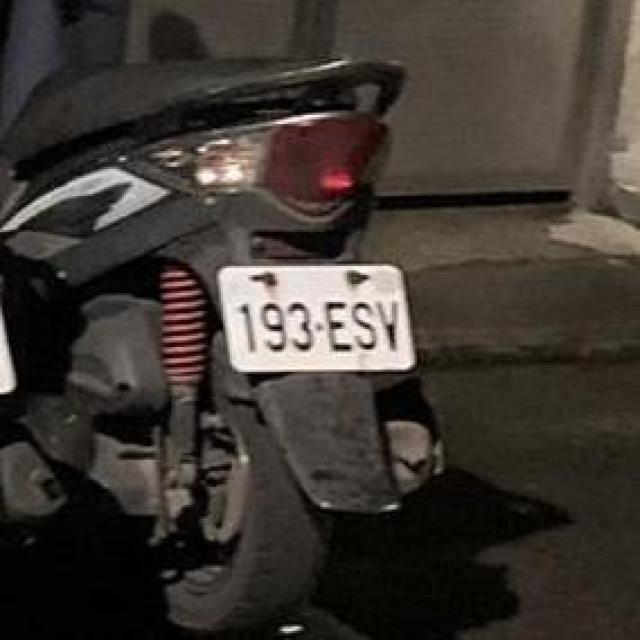W: (212, 250, 417, 381)
